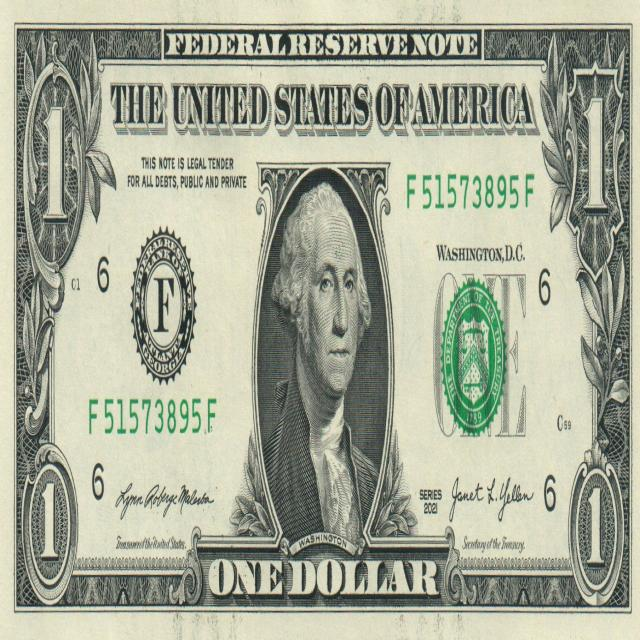SerialNumber: (89, 399, 216, 434), (407, 174, 534, 209)
